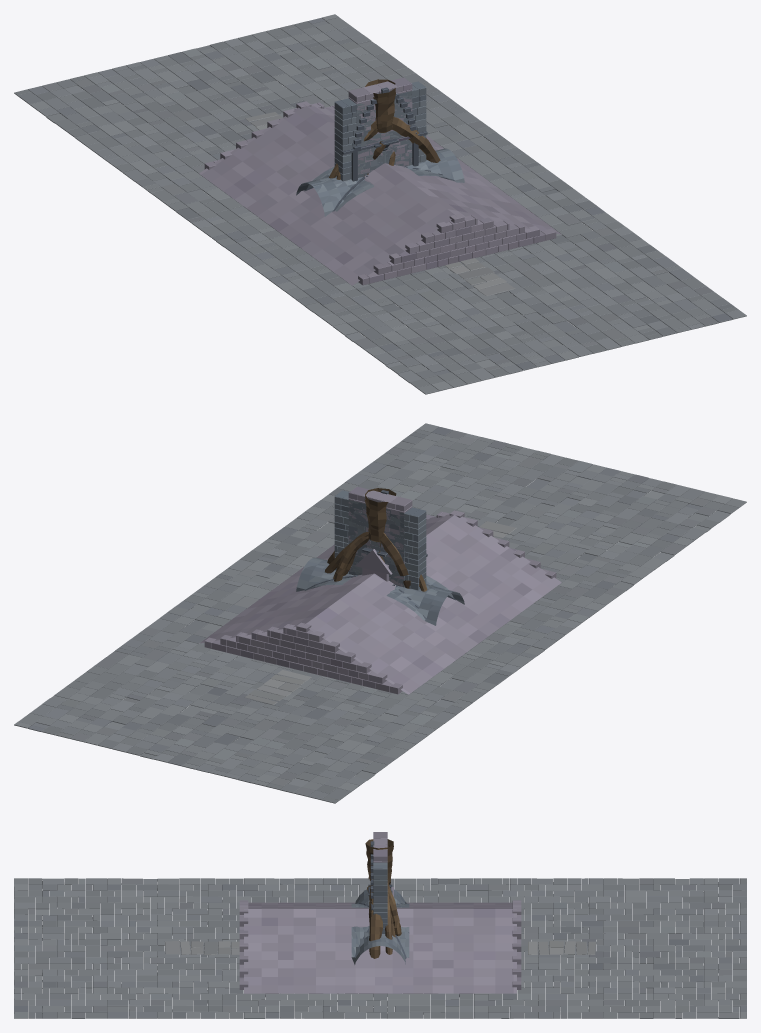
Rendered from crypt_lowpoly.glb.
3 views of the same model, one above another, from view 1: azimuth 30°, elevation 25°; view 2: azimuth 150°, elevation 25°; view 3: azimuth 270°, elevation 25° (orthographic). The views are drawn at different scales.
Parts seen in each view (by area): view 1: KFloor, KTombRoof, KWallArch, KTombWall, KVaultNave, KWalk, KRootFall, KVaultNaveHole, KWallDoor, KWallNiche, KWall; view 2: KFloor, KTombRoof, KWallArch, KTombWall, KVaultNave, KWalk, KRootFallSmall, KVaultNaveHole, KRootFall, KWallNiche, KWallDoor, KWall; view 3: KFloor, KTombRoof, KWalk, KRootFall, KWallArch, KVaultNaveHole, KVaultNave, KRootFallSmall, KTombWall.
Part boxes in pixels (bbox=[...]): KFloor: bbox=[14, 14, 746, 394]; KTombRoof: bbox=[199, 101, 561, 285]; KWallArch: bbox=[334, 81, 427, 181]; KTombWall: bbox=[348, 77, 412, 174]; KVaultNave: bbox=[297, 148, 460, 216]; KWalk: bbox=[245, 112, 515, 296]; KRootFall: bbox=[329, 79, 440, 179]; KVaultNaveHole: bbox=[296, 149, 464, 210]; KWallDoor: bbox=[356, 91, 412, 175]; KWallNiche: bbox=[356, 91, 412, 177]; KWall: bbox=[357, 92, 412, 174]; KFloor: bbox=[14, 423, 746, 803]; KTombRoof: bbox=[199, 510, 561, 694]; KWallArch: bbox=[334, 490, 427, 590]; KTombWall: bbox=[348, 486, 412, 587]; KVaultNave: bbox=[302, 558, 462, 625]; KWalk: bbox=[244, 521, 516, 705]; KRootFallSmall: bbox=[334, 499, 410, 588]; KVaultNaveHole: bbox=[296, 557, 464, 621]; KRootFall: bbox=[325, 488, 427, 591]; KWallNiche: bbox=[348, 502, 404, 583]; KWallDoor: bbox=[348, 502, 404, 586]; KWall: bbox=[348, 500, 404, 587]; KFloor: bbox=[14, 878, 746, 1018]; KTombRoof: bbox=[239, 900, 521, 996]; KWalk: bbox=[165, 941, 596, 954]; KRootFall: bbox=[365, 839, 395, 958]; KWallArch: bbox=[370, 841, 387, 933]; KVaultNaveHole: bbox=[351, 892, 409, 964]; KVaultNave: bbox=[351, 889, 409, 960]; KRootFallSmall: bbox=[367, 844, 401, 936]; KTombWall: bbox=[373, 832, 387, 862].
Bounding box in the file's own units: 45.97 × 20.23 × 102.
